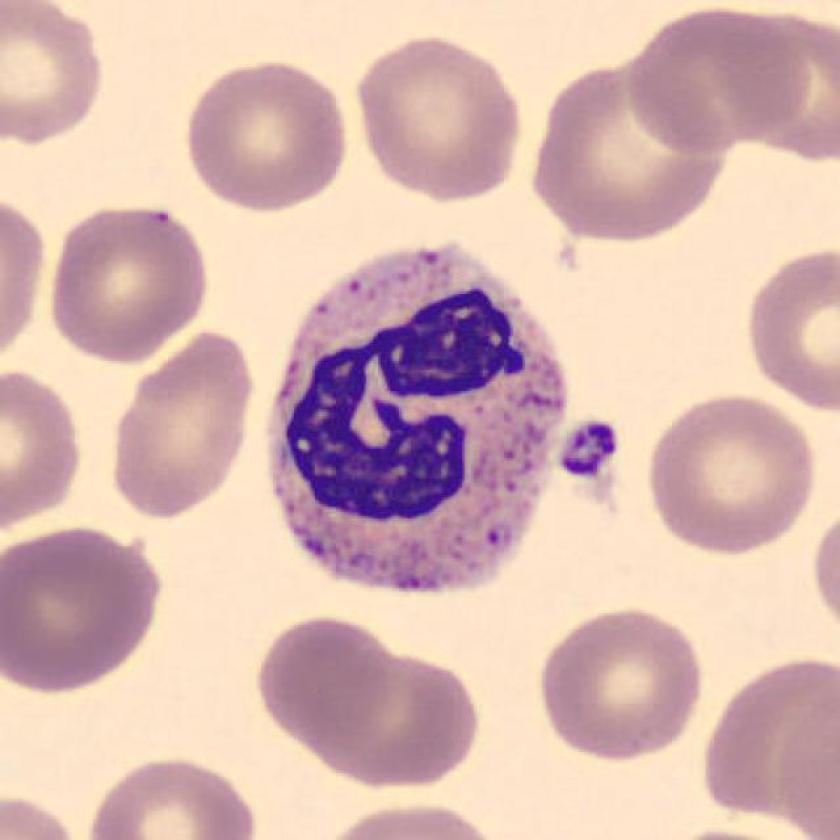neutrophil: (270, 249, 568, 590)
